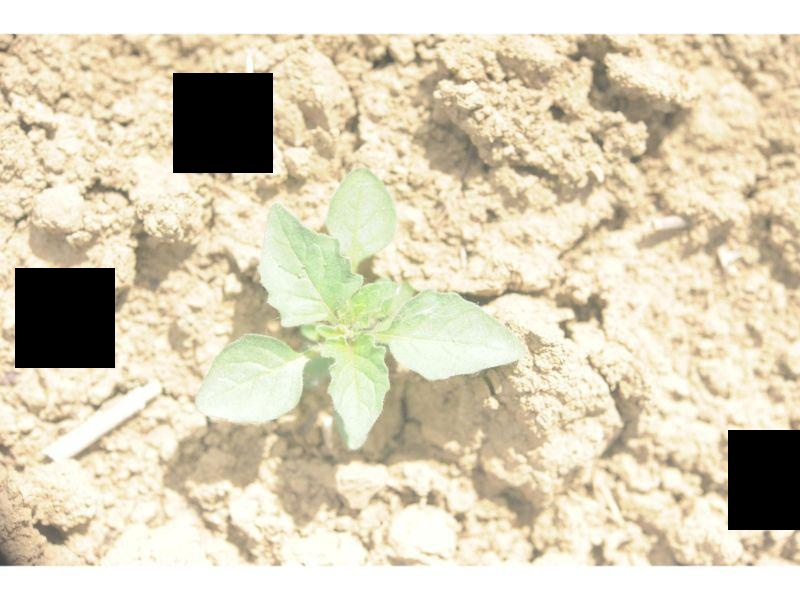nightshade: (196, 168, 519, 448)
